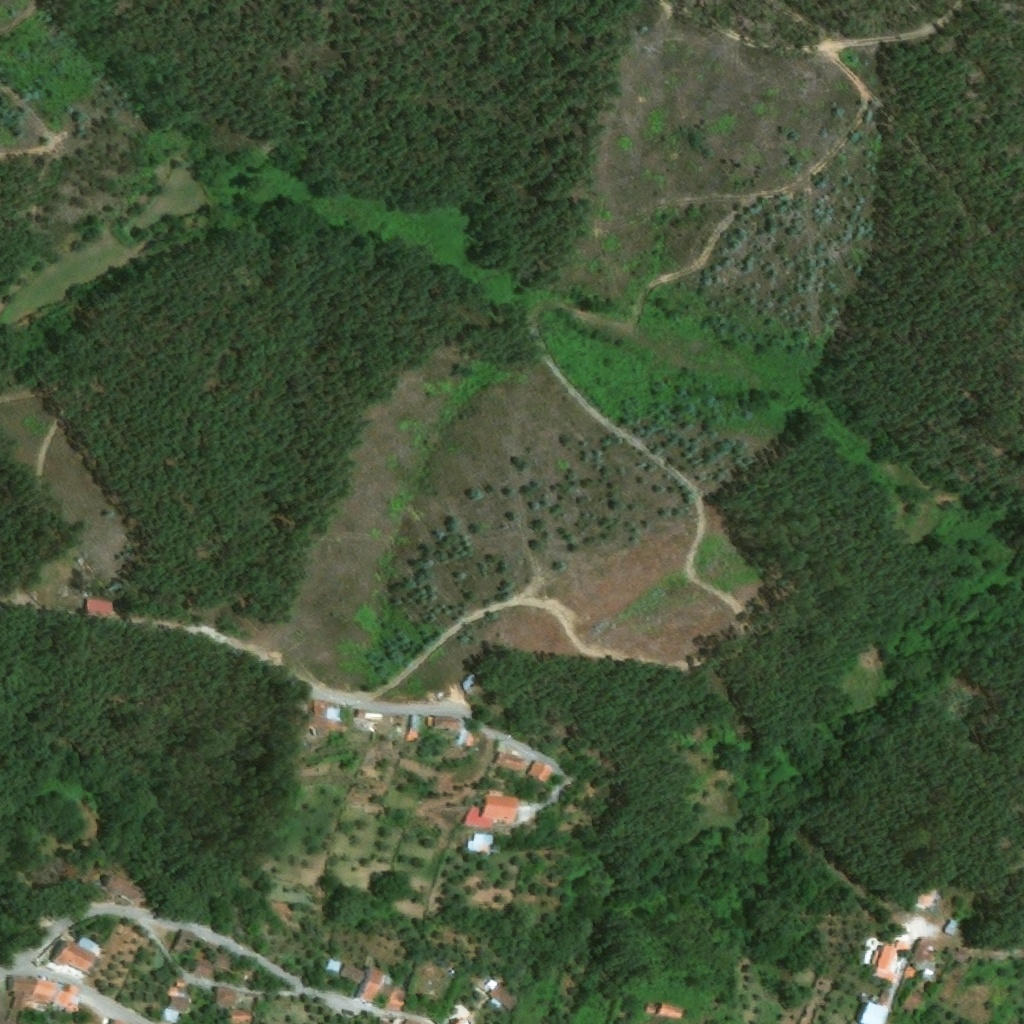0 no-damage: (50, 937, 101, 975), (475, 974, 518, 1014), (478, 793, 518, 822), (170, 930, 206, 960), (194, 952, 233, 977), (107, 873, 140, 901), (359, 968, 385, 1002), (874, 944, 898, 978), (383, 985, 408, 1015), (161, 998, 191, 1023), (464, 834, 498, 855), (463, 804, 490, 830), (858, 1001, 887, 1023), (900, 987, 925, 1012), (496, 752, 528, 771), (54, 982, 78, 1007), (7, 976, 38, 994), (339, 964, 365, 985), (33, 979, 60, 999), (315, 700, 340, 721), (527, 762, 553, 782), (907, 936, 926, 963), (86, 598, 113, 615), (657, 1004, 684, 1020), (217, 985, 237, 1006), (434, 715, 460, 729), (353, 708, 383, 719), (941, 919, 957, 938), (230, 1011, 253, 1023), (9, 992, 23, 1011), (901, 967, 916, 981), (645, 1003, 661, 1016), (862, 938, 878, 951), (409, 715, 420, 732), (406, 731, 417, 740), (167, 988, 178, 996), (428, 717, 434, 727)
4 un-classified: (456, 1017, 467, 1023)
